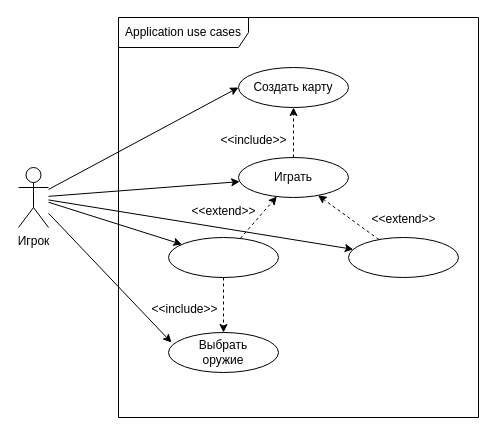
This 496x435 diagram has some shape labels left out. Each missing label, with the centre of its shape:
Выстрелить из оружия: point 223,257
Передвинуть персонажа: point 403,257
